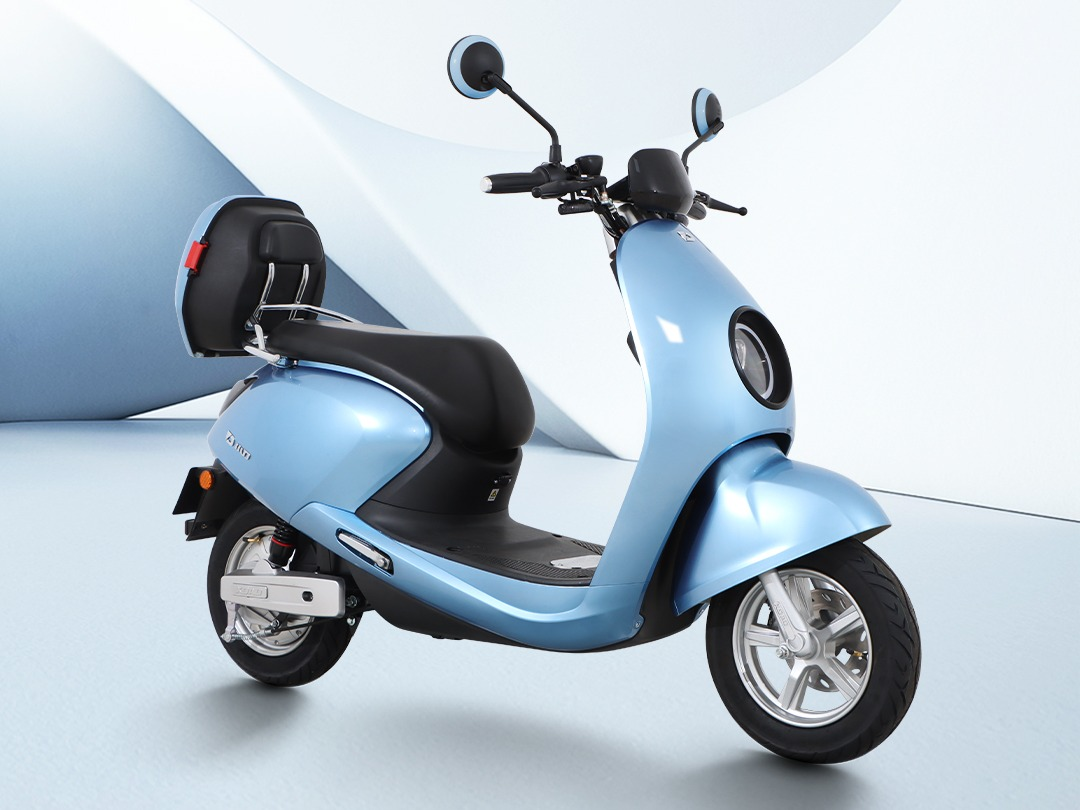MNV: (174, 110, 921, 763)
